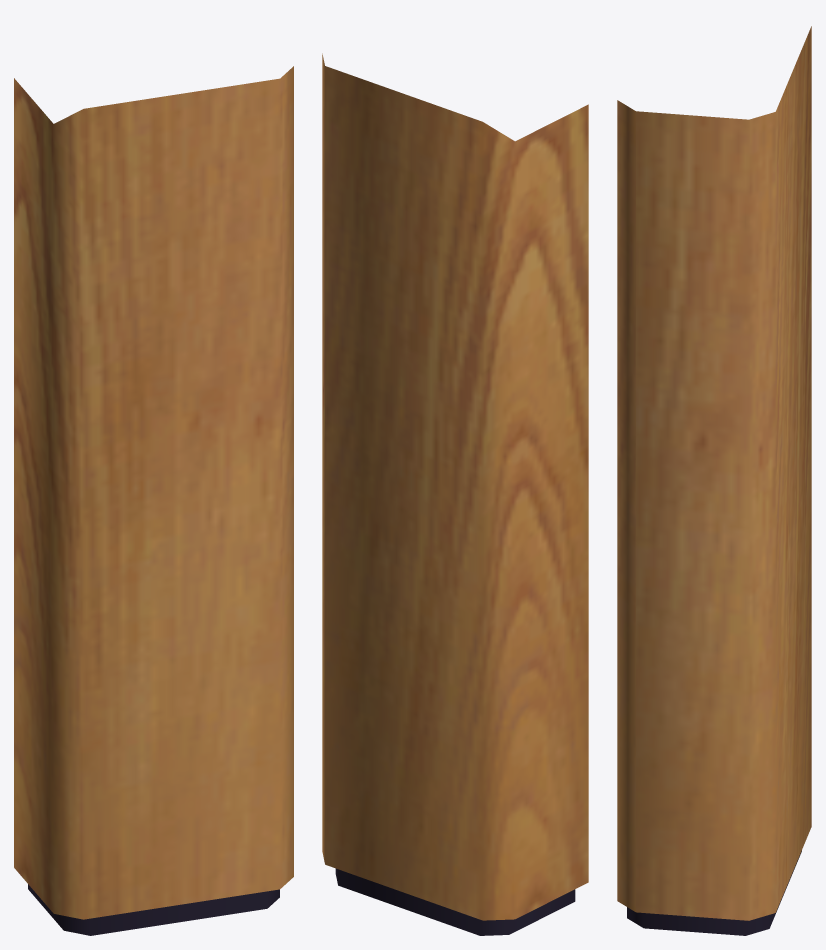
3 views of the same model, side by side, from view 1: azimuth 30°, elevation 25°; view 2: azimuth 150°, elevation 25°; view 3: azimuth 270°, elevation 25° (orthographic).
Visible parts, largest first — view 1: Joint_0_Object_0, Joint_0_Object_1; view 2: Joint_0_Object_0, Joint_0_Object_1; view 3: Joint_0_Object_0, Joint_0_Object_1.
Part boxes in pixels (left/top/right/bottom): Joint_0_Object_0: left=14, top=66, right=293, bottom=919; Joint_0_Object_1: left=28, top=884, right=279, bottom=935; Joint_0_Object_0: left=322, top=53, right=588, bottom=920; Joint_0_Object_1: left=335, top=868, right=575, bottom=935; Joint_0_Object_0: left=617, top=26, right=811, bottom=920; Joint_0_Object_1: left=627, top=850, right=801, bottom=935.
Size of the model in its own units: 117 by 395 by 84.56.
2 materials, 2 textured.
